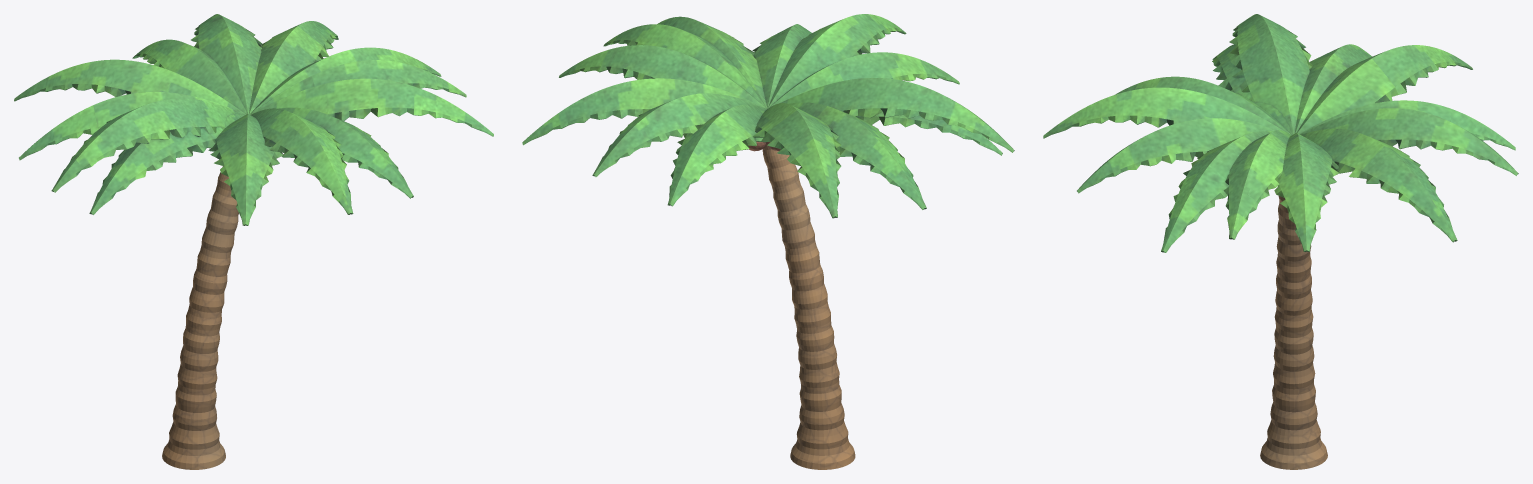
File: WM_Palm_B.fbx
3 views of the same model, side by side, from view 1: azimuth 30°, elevation 25°; view 2: azimuth 150°, elevation 25°; view 3: azimuth 270°, elevation 25° (orthographic). The views are drawn at different scales.
Parts seen in each view (by area): view 1: WM_Palm_B_LOD0; view 2: WM_Palm_B_LOD0; view 3: WM_Palm_B_LOD0.
Boxes of the visible parts, bbox=[...] form: WM_Palm_B_LOD0: bbox=[14, 14, 493, 469]; WM_Palm_B_LOD0: bbox=[522, 14, 1014, 469]; WM_Palm_B_LOD0: bbox=[1043, 14, 1518, 469].
Size of what is drawn, in the model's own units: 3.72 by 3.2 by 3.47.
